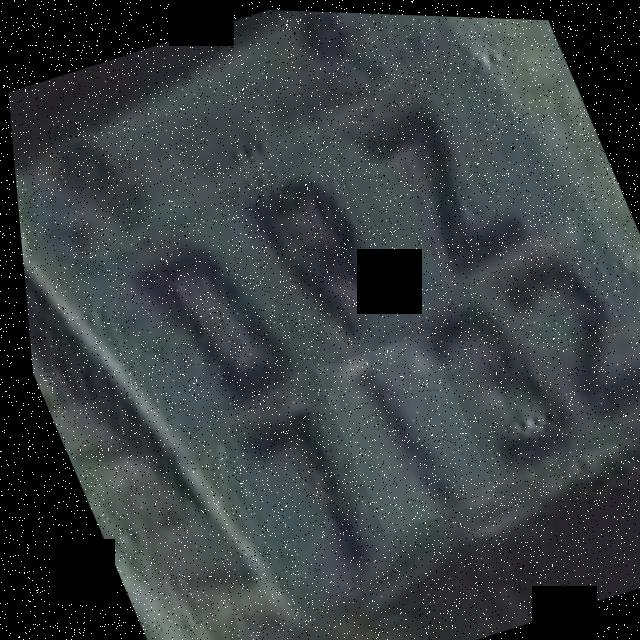1: (305, 326, 492, 534)
2: (445, 197, 640, 447)
3: (362, 250, 603, 500)
7: (191, 361, 414, 614)
R: (218, 142, 428, 370)
Z: (324, 66, 526, 285)
